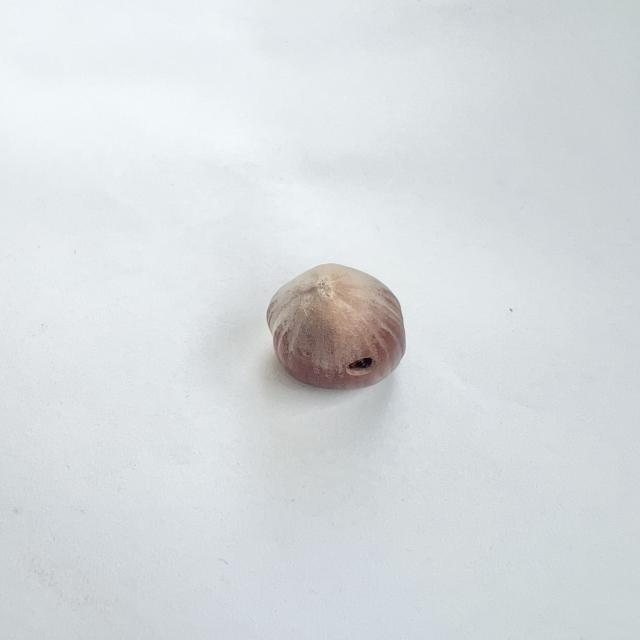hazelnut: (260, 256, 409, 387)
